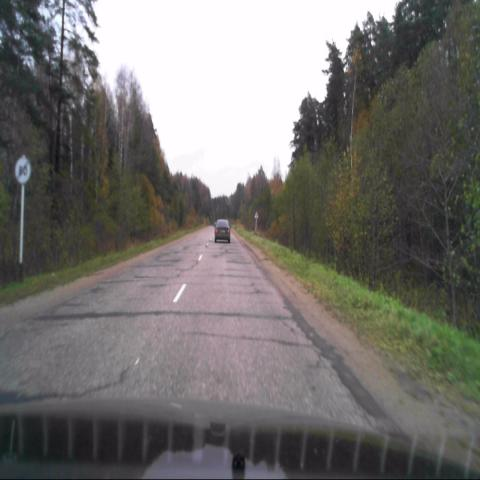3_25: (14, 156, 31, 184)
